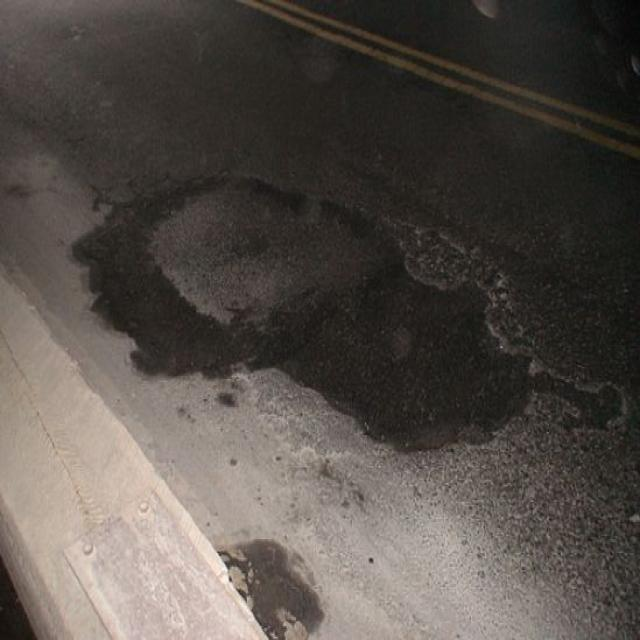pothole: (65, 166, 555, 455)
